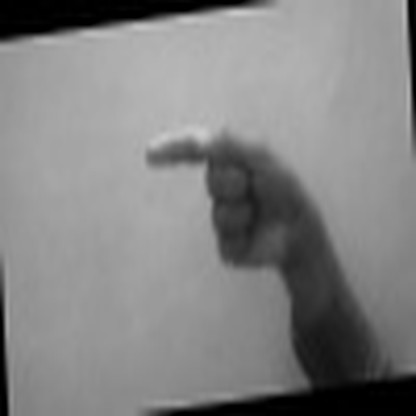g: (139, 118, 318, 277)
